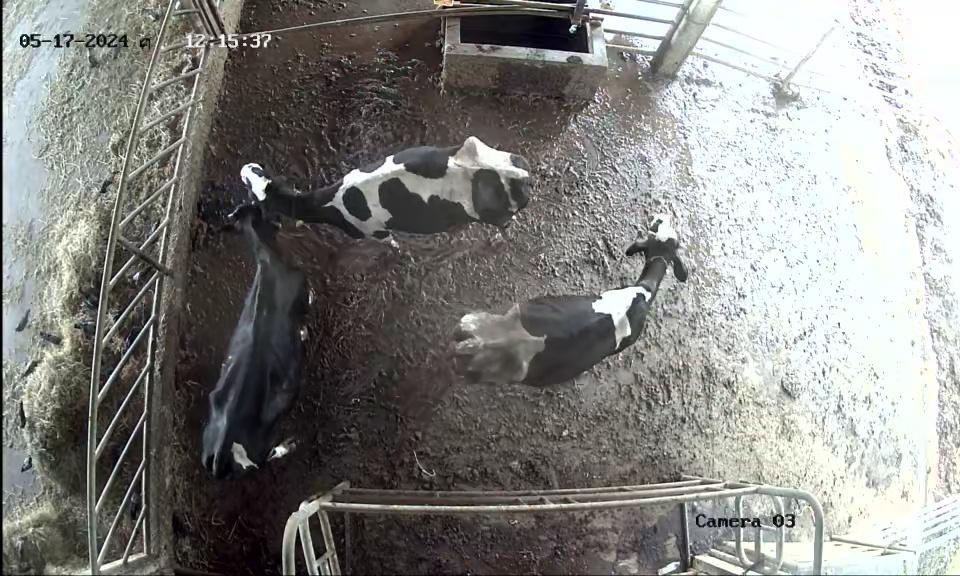stand: (433, 204, 706, 412), (189, 197, 327, 476), (242, 133, 557, 247)
